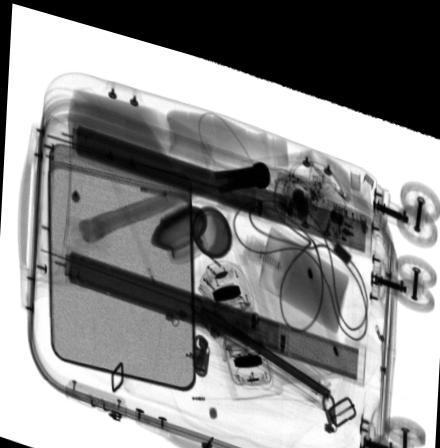Hammer: (76, 145, 270, 238)
